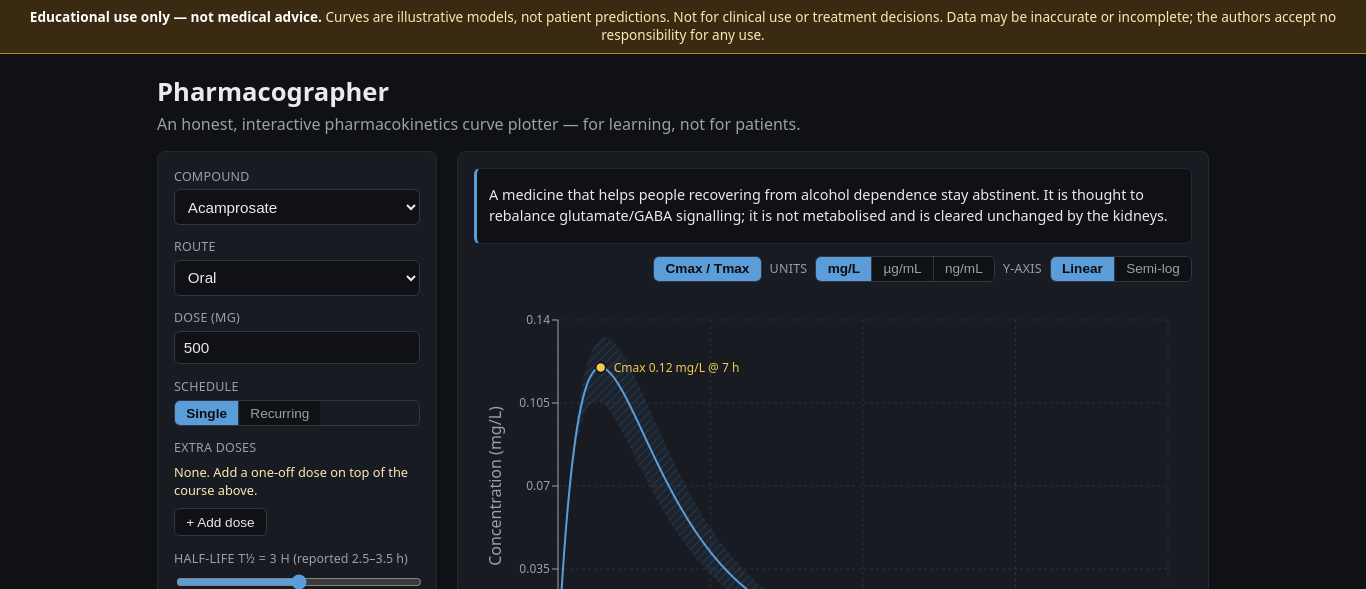
Scenario: variability axes, wired through App › resets the Vd slider when the compound changes
Select "Acamprosate" in the dropdown with class "control__input" showing "Compound" at (297, 207), box [174,190,420,225]
(page scrolled)
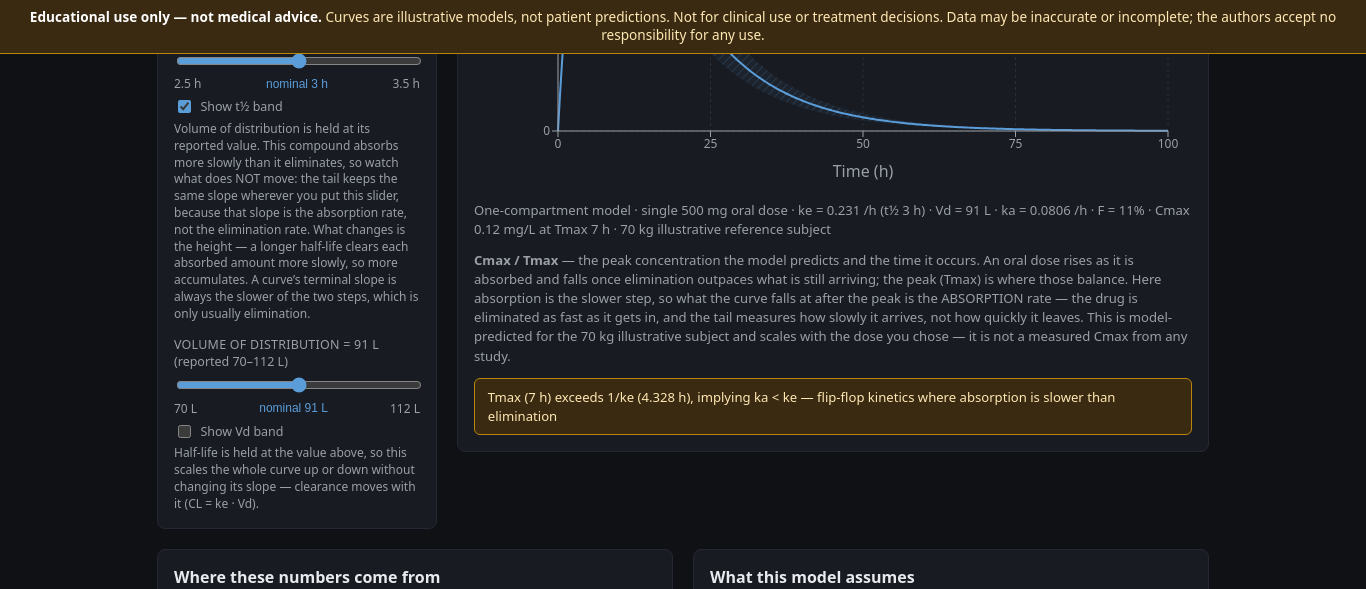
Set the 2nd slider with class "slider" to "112" at (414, 385), box [176,377,422,393]
(page scrolled)
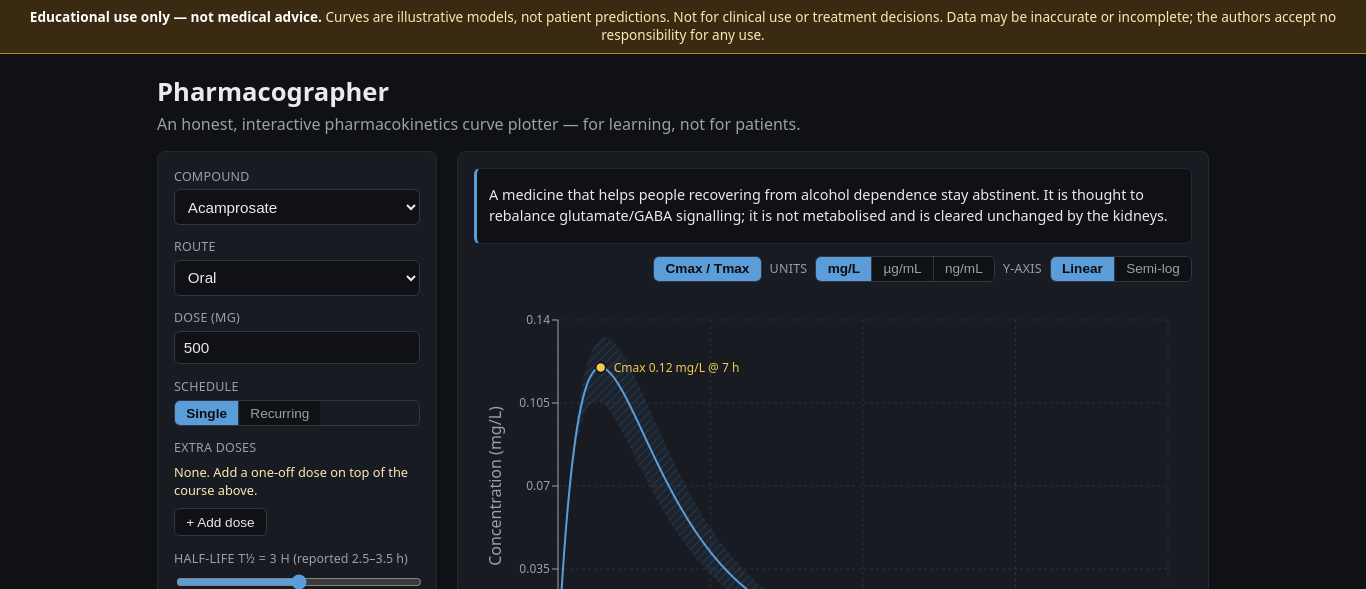
Select "Digoxin" in the dropdown with class "control__input" showing "Compound" at (297, 207), box [174,190,420,225]
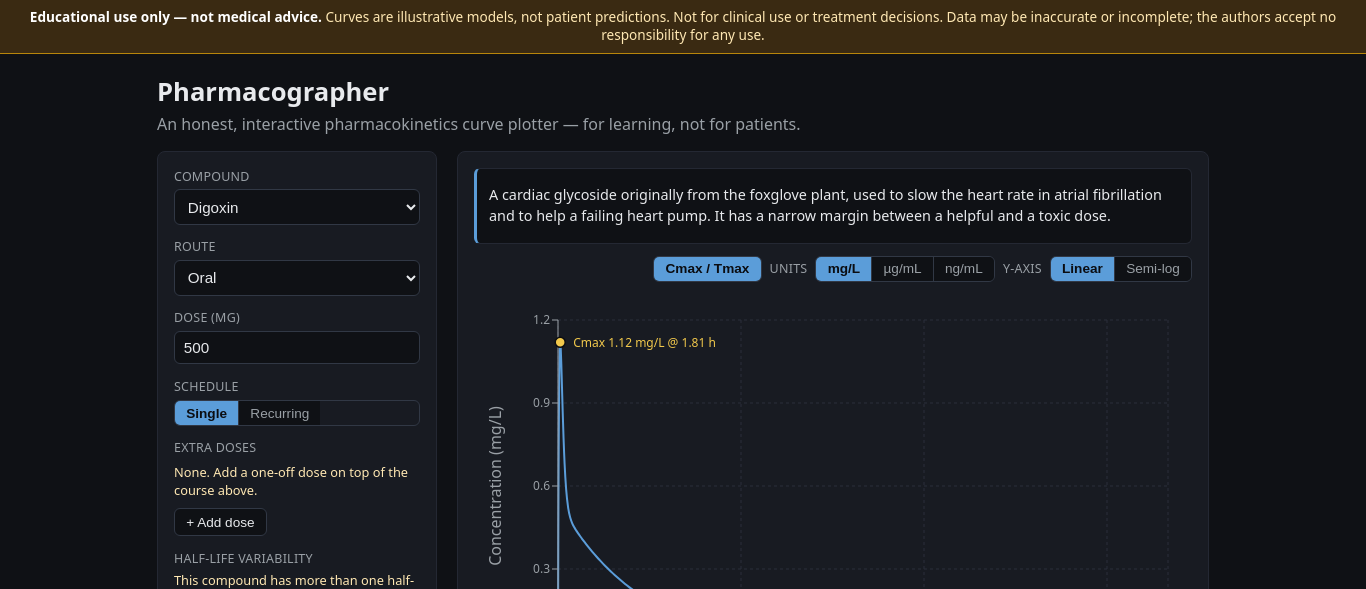
Select "Acamprosate" in the dropdown with class "control__input" showing "Compound" at (297, 207), box [174,190,420,225]
(page scrolled)
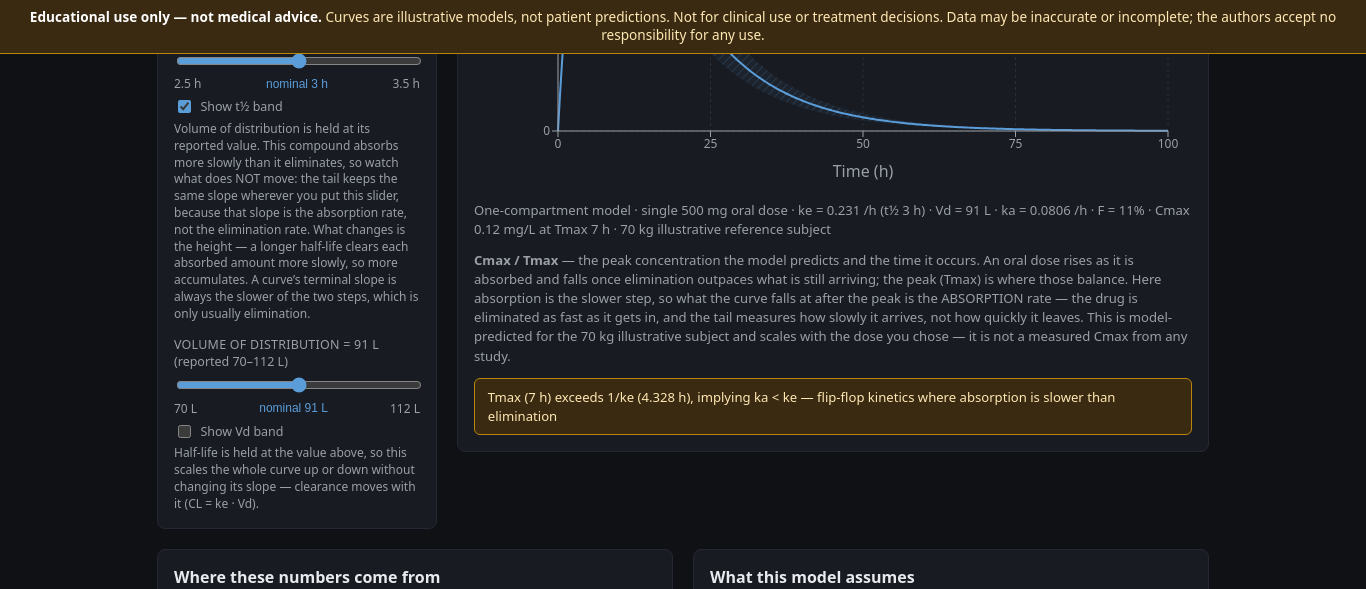
Check: the slider with class "slider" holds "91", box [176,377,422,393]
